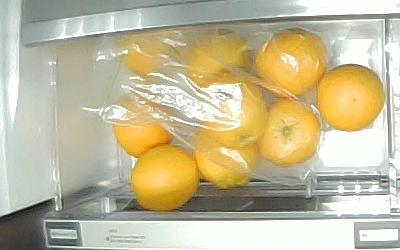orange: (317, 65, 386, 132), (132, 144, 200, 211)
orange_vinyl: (256, 29, 328, 98), (201, 77, 268, 149), (257, 98, 322, 167), (193, 124, 259, 189), (183, 28, 253, 88), (113, 90, 173, 158), (120, 29, 178, 77)
